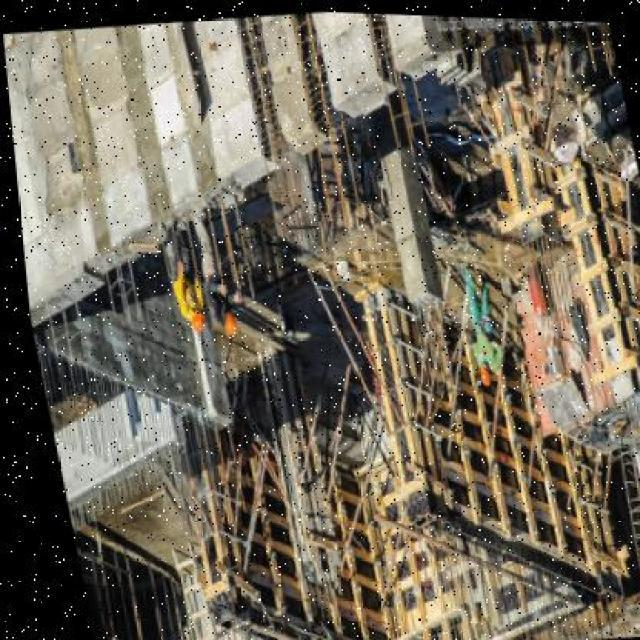helmet: (175, 305, 199, 330), (465, 357, 485, 383), (209, 308, 229, 334)
